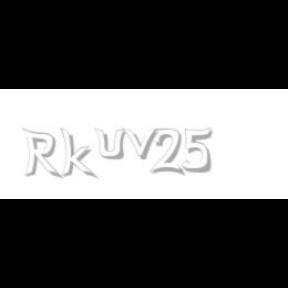2: (149, 128, 183, 176)
5: (182, 128, 212, 174)
R: (22, 128, 60, 180)
k: (60, 128, 98, 180)
u: (94, 128, 130, 160)
v: (122, 128, 162, 160)
